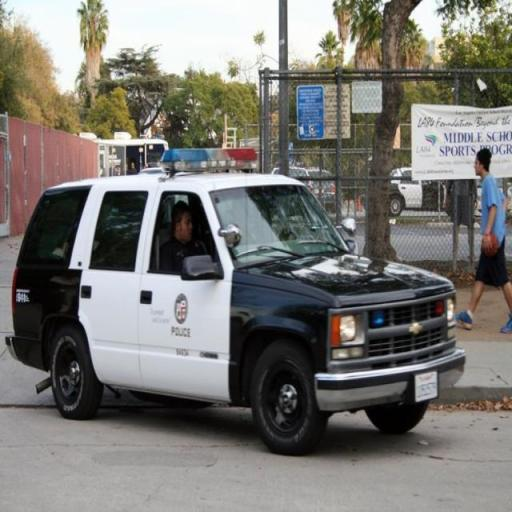Ambulance: (11, 141, 468, 451)
